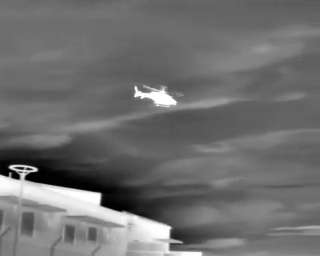HELICOPTER: (131, 78, 190, 116)
